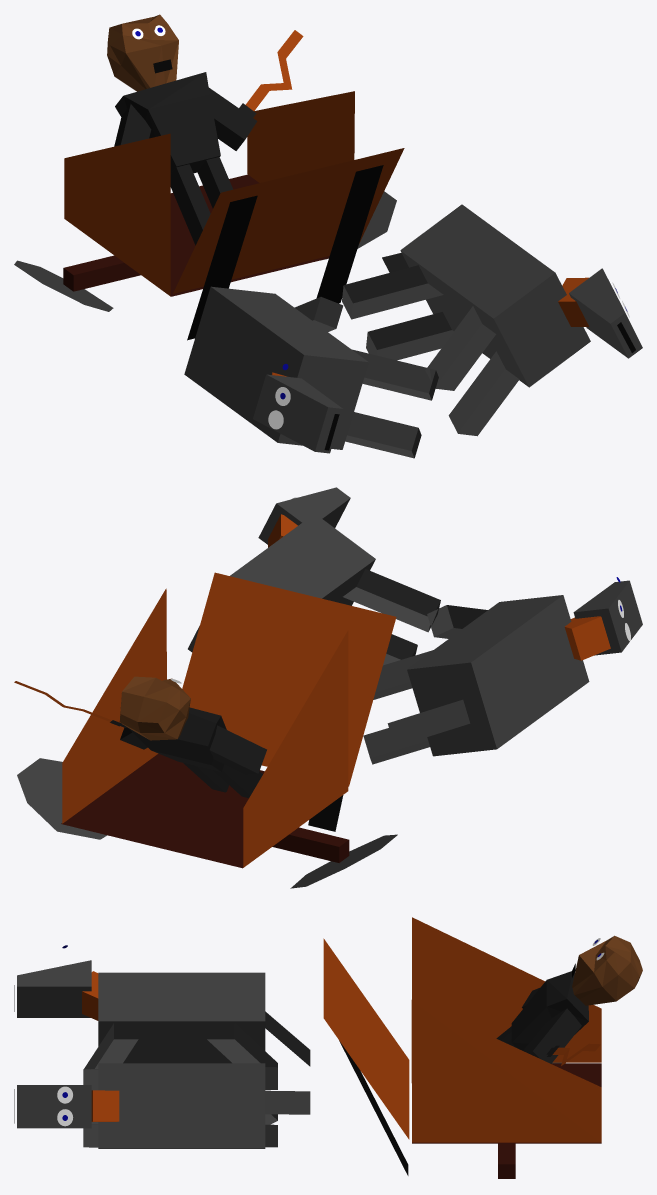
The model's file is heavychariot2d.obj.
3 renders of one model, top to bottom at view 1: azimuth 30°, elevation 25°; view 2: azimuth 150°, elevation 25°; view 3: azimuth 270°, elevation 25°, orthographic. The views are drawn at different scales.
Parts seen in each view (by area): view 1: Cube.006_Cube.009, Cube.015_Cube.017, Plane.005_Plane.006, Plane.003, Plane.004, Cube.001, Cube.021_Cube.023, Cube, Plane.013_Plane.014, Cube.009_Cube.010, Cube.014_Cube.016, Cube.011_Cube.013 (+16 smaller); view 2: Plane.005_Plane.006, Cube.015_Cube.017, Plane.003, Plane.002, Plane.004, Cube.006_Cube.009, Cube, Cube.012_Cube.014, Plane.006_Plane.007, Cube.001, Cube.021_Cube.023, Cube.014_Cube.016 (+11 smaller); view 3: Plane.004, Cube.006_Cube.009, Cube.015_Cube.017, Plane.003, Plane.005_Plane.006, Cube, Cube.021_Cube.023, Cube.014_Cube.016, Cube.001, Cube.002, Cube.017_Cube.019, Plane.008_Plane.009 (+7 smaller).
Boxes of the visible parts, x1=… form: Cube.006_Cube.009: x1=400, y1=204, x2=590, y2=387; Cube.015_Cube.017: x1=184, y1=286, x2=368, y2=449; Plane.005_Plane.006: x1=173, y1=148, x2=404, y2=293; Plane.003: x1=64, y1=133, x2=170, y2=296; Plane.004: x1=247, y1=91, x2=354, y2=182; Cube.001: x1=115, y1=72, x2=220, y2=174; Cube.021_Cube.023: x1=253, y1=374, x2=343, y2=453; Cube: x1=107, y1=14, x2=178, y2=91; Plane.013_Plane.014: x1=316, y1=165, x2=383, y2=303; Cube.009_Cube.010: x1=342, y1=265, x2=443, y2=319; Cube.014_Cube.016: x1=569, y1=268, x2=642, y2=358; Cube.011_Cube.013: x1=448, y1=351, x2=519, y2=436; Plane.005_Plane.006: x1=182, y1=572, x2=396, y2=786; Cube.015_Cube.017: x1=407, y1=595, x2=589, y2=756; Plane.003: x1=243, y1=630, x2=348, y2=867; Plane.002: x1=61, y1=753, x2=264, y2=868; Plane.004: x1=62, y1=588, x2=166, y2=823; Cube.006_Cube.009: x1=188, y1=514, x2=375, y2=652; Cube: x1=119, y1=676, x2=190, y2=740; Cube.012_Cube.014: x1=343, y1=569, x2=440, y2=632; Plane.006_Plane.007: x1=17, y1=758, x2=106, y2=839; Cube.001: x1=128, y1=707, x2=226, y2=771; Cube.021_Cube.023: x1=573, y1=580, x2=642, y2=655; Cube.014_Cube.016: x1=258, y1=487, x2=350, y2=544; Plane.004: x1=411, y1=1000, x2=601, y2=1142; Cube.006_Cube.009: x1=98, y1=1063, x2=265, y2=1148; Cube.015_Cube.017: x1=98, y1=972, x2=265, y2=1063; Plane.003: x1=412, y1=917, x2=601, y2=1062; Plane.005_Plane.006: x1=323, y1=938, x2=409, y2=1139; Cube: x1=572, y1=935, x2=642, y2=1005; Cube.021_Cube.023: x1=17, y1=960, x2=91, y2=1017; Cube.014_Cube.016: x1=17, y1=1085, x2=91, y2=1128; Cube.001: x1=511, y1=971, x2=588, y2=1050; Cube.002: x1=523, y1=1008, x2=581, y2=1063; Cube.017_Cube.019: x1=207, y1=1023, x2=277, y2=1067; Plane.008_Plane.009: x1=265, y1=1090, x2=310, y2=1114.
Bounding box in the file's own units: 9.61 × 5.5 × 15.95.
